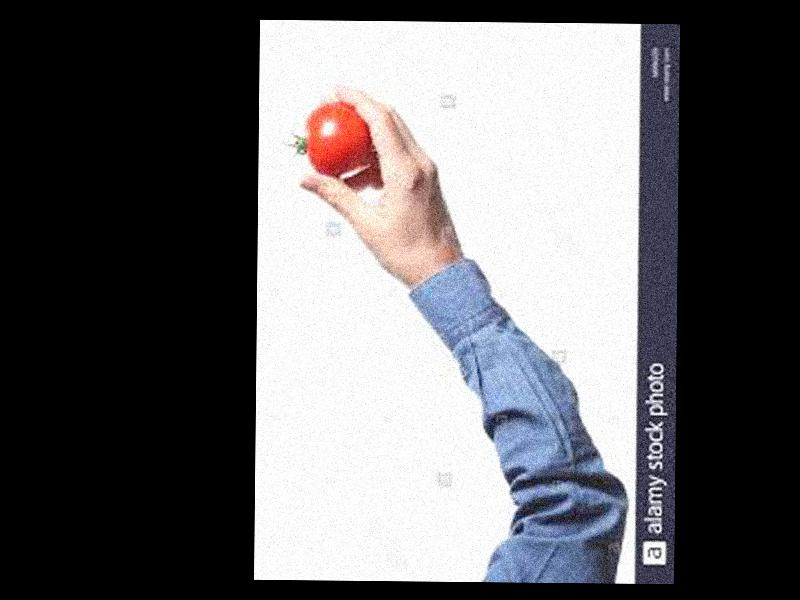Tomato: (306, 101, 368, 174)
